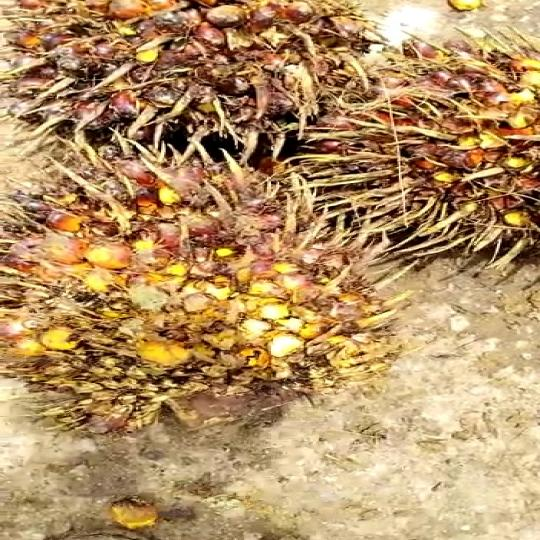masak: (0, 142, 387, 428), (10, 0, 337, 144)
